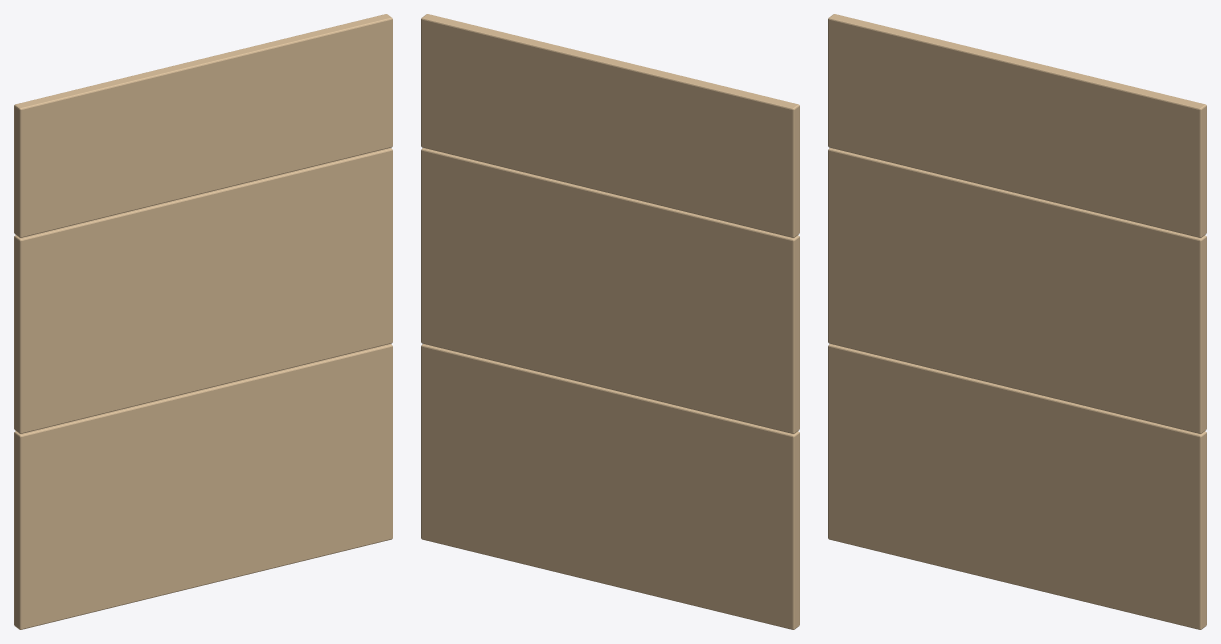
Rendered from DRAWERS_3_600x800.glb.
3 views of the same model, side by side, from view 1: azimuth 30°, elevation 25°; view 2: azimuth 150°, elevation 25°; view 3: azimuth 330°, elevation 25° (orthographic).
Parts seen in each view (by area): view 1: front_panel_03, front_panel_02, front_panel_01; view 2: front_panel_03, front_panel_02, front_panel_01; view 3: front_panel_03, front_panel_02, front_panel_01.
Part boxes in pixels (x1,y1,x2,y2): front_panel_03: [14, 344, 392, 629]; front_panel_02: [14, 148, 392, 433]; front_panel_01: [14, 14, 392, 237]; front_panel_03: [421, 344, 799, 629]; front_panel_02: [421, 148, 799, 433]; front_panel_01: [421, 14, 799, 237]; front_panel_03: [828, 344, 1206, 629]; front_panel_02: [828, 148, 1206, 433]; front_panel_01: [828, 14, 1206, 237].
Bounding box in the file's own units: 0.596 × 0.796 × 0.018.
